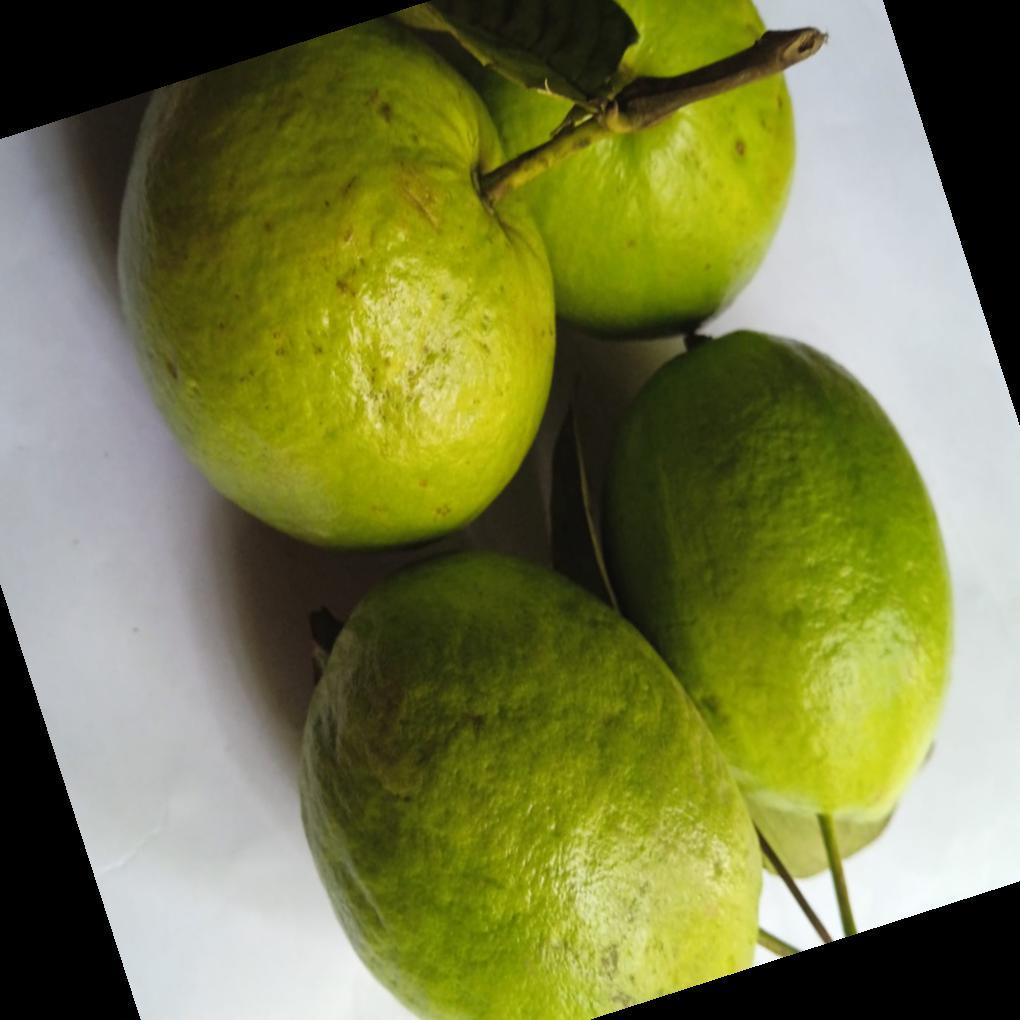FreshGuava: (116, 0, 955, 1020)
